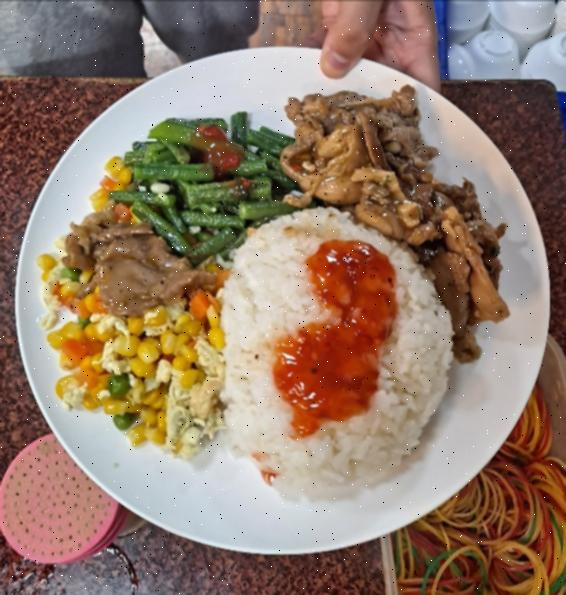big fried chicken leg: (16, 34, 560, 560)
big herbal chicken leg: (216, 210, 448, 500)
braised fish fillet: (31, 169, 227, 462), (111, 109, 302, 254)
braised pork: (280, 77, 502, 354)
